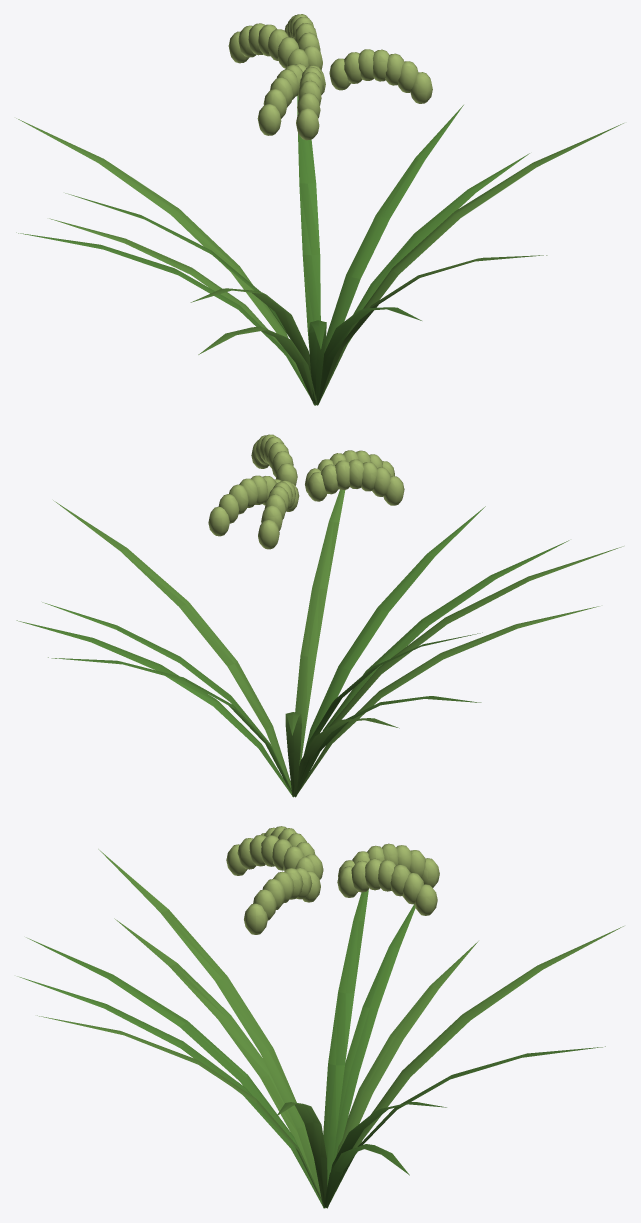
Rendered from crop-rice-flowering.glb.
3 renders of one model, top to bottom at view 1: azimuth 30°, elevation 25°; view 2: azimuth 150°, elevation 25°; view 3: azimuth 270°, elevation 25°, orthographic. The views are drawn at different scales.
Visible parts, largest first — view 1: crop-rice-flowering-kit; view 2: crop-rice-flowering-kit; view 3: crop-rice-flowering-kit.
Boxes of the visible parts, x1,y1,x2,y2 form: crop-rice-flowering-kit: (16,14,623,405); crop-rice-flowering-kit: (16,434,623,797); crop-rice-flowering-kit: (17,826,623,1208).
Bounding box in the file's own units: 1.22 × 0.7805 × 1.22.
